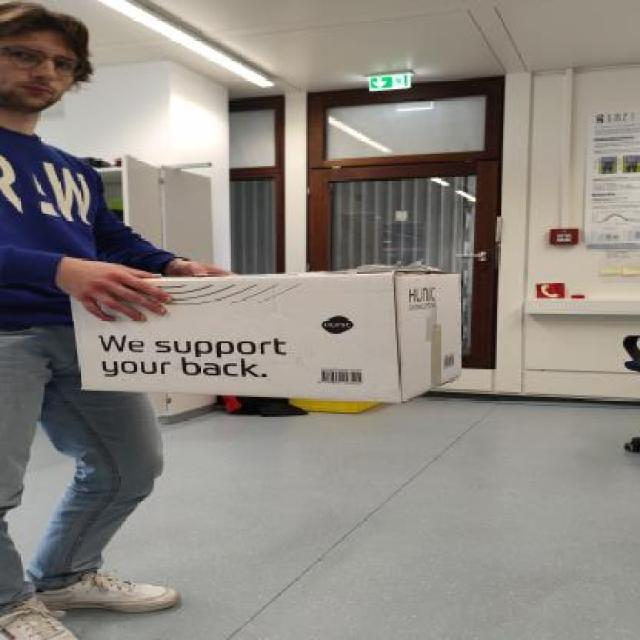box: (41, 245, 492, 420)
